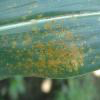Corn rust leaf: (0, 0, 99, 82)
